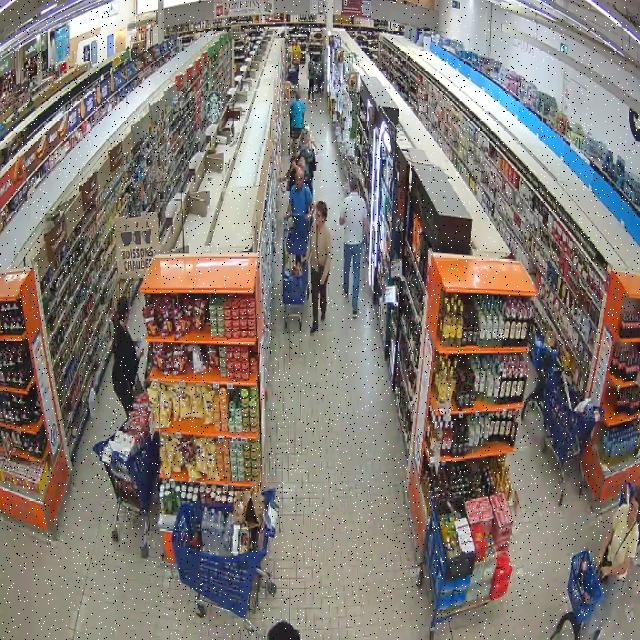article: (278, 182, 287, 194)
bags: (600, 524, 636, 567), (316, 231, 325, 280)
hands: (599, 566, 611, 577), (595, 553, 603, 567), (276, 177, 283, 188), (137, 346, 143, 358), (284, 211, 292, 219), (320, 278, 326, 285), (306, 214, 312, 220)
person: (585, 487, 639, 639), (340, 175, 367, 317), (112, 297, 141, 415), (307, 201, 330, 334), (288, 167, 315, 226), (279, 156, 309, 191)
